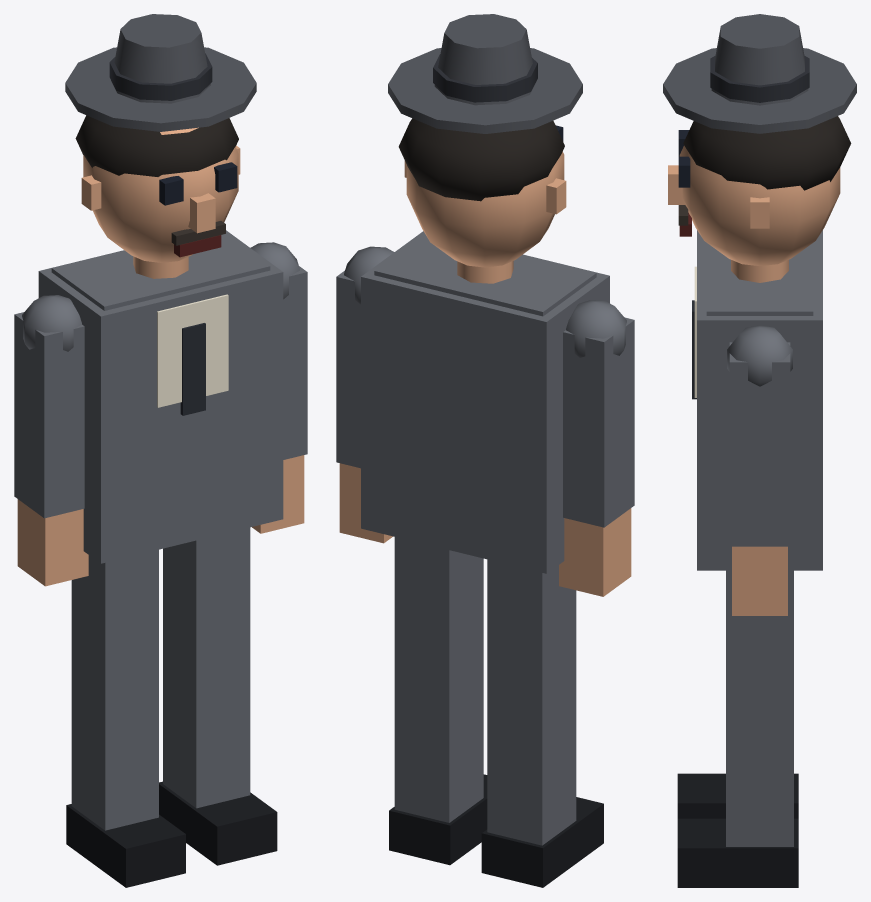
The model's file is nihat.glb.
3 renders of one model, left to right at view 1: azimuth 30°, elevation 25°; view 2: azimuth 150°, elevation 25°; view 3: azimuth 270°, elevation 25°, orthographic.
Parts seen in each view (by area): view 1: Body, LegR, LegL, ArmR, Head, Hat, ArmL, Mouth; view 2: Body, LegR, LegL, ArmR, Head, Hat, ArmL; view 3: Body, LegL, Head, ArmL, Hat, LegR.
Boxes of the visible parts, x1,y1,x2,y2 form: Body: (38,230,283,563); LegR: (66,549,185,887); LegL: (159,527,277,865); ArmR: (14,295,88,586); Head: (75,115,240,262); Hat: (65,14,256,131); ArmL: (250,242,307,533); Mouth: (174,235,221,257); Body: (361,231,609,573); LegR: (481,559,603,887); LegL: (389,537,487,865); ArmR: (559,300,634,596); Head: (398,118,566,267); Hat: (388,14,582,133); ArmL: (336,246,394,543); Body: (692,230,822,570); LegL: (677,570,798,887); Head: (668,116,851,265); ArmL: (727,325,792,615); Hat: (663,14,856,133); LegR: (677,773,798,818).
Size of the model in its own units: 0.6556 by 1.87 by 0.4.
